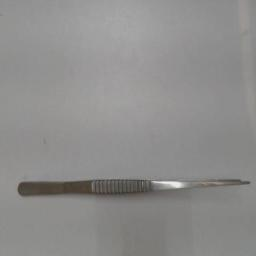DeBakey Dissector: (10, 174, 252, 200)
